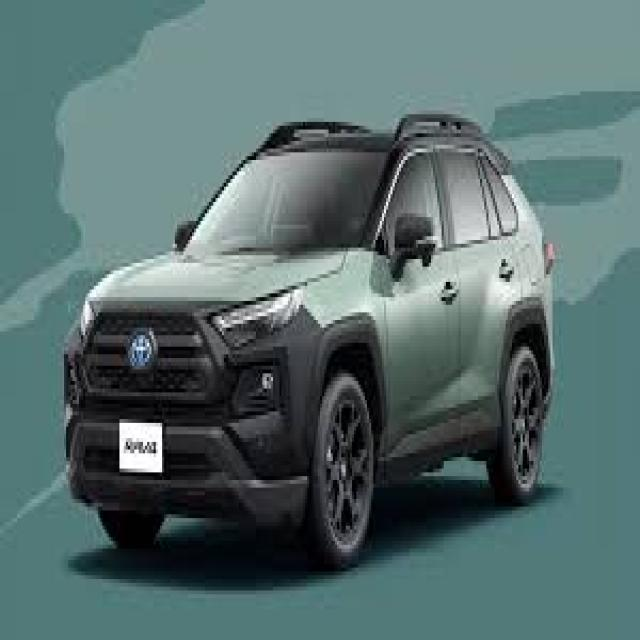light_vehicle: (63, 114, 558, 572)
